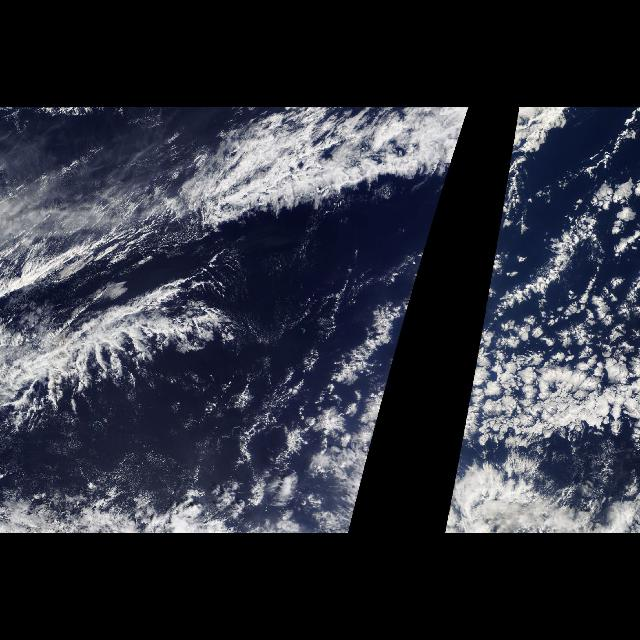Fish: (1, 260, 411, 470), (484, 206, 618, 312)
Flower: (460, 293, 640, 455)
